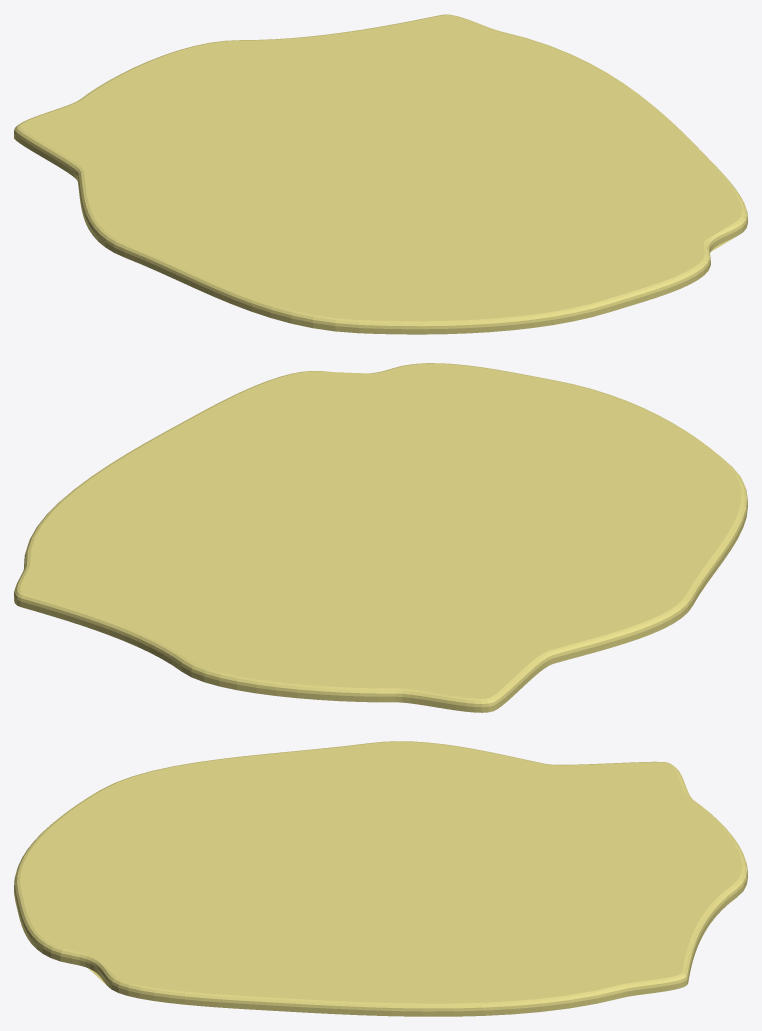
Rendered from wood storage base .fbx.
3 renders of one model, top to bottom at view 1: azimuth 30°, elevation 25°; view 2: azimuth 150°, elevation 25°; view 3: azimuth 270°, elevation 25°, orthographic. The views are drawn at different scales.
Parts seen in each view (by area): view 1: BezierCurve.005; view 2: BezierCurve.005; view 3: BezierCurve.005.
Part boxes in pixels (left/top/right/bottom): BezierCurve.005: left=14, top=14, right=747, bottom=334; BezierCurve.005: left=14, top=363, right=747, bottom=712; BezierCurve.005: left=14, top=741, right=747, bottom=1016.
Bounding box in the file's own units: 23419 × 437 × 27216.
